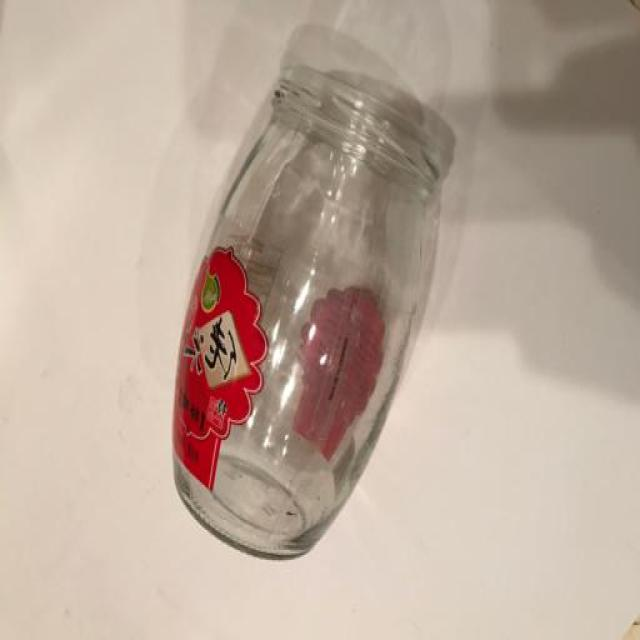glass: (172, 63, 445, 560)
